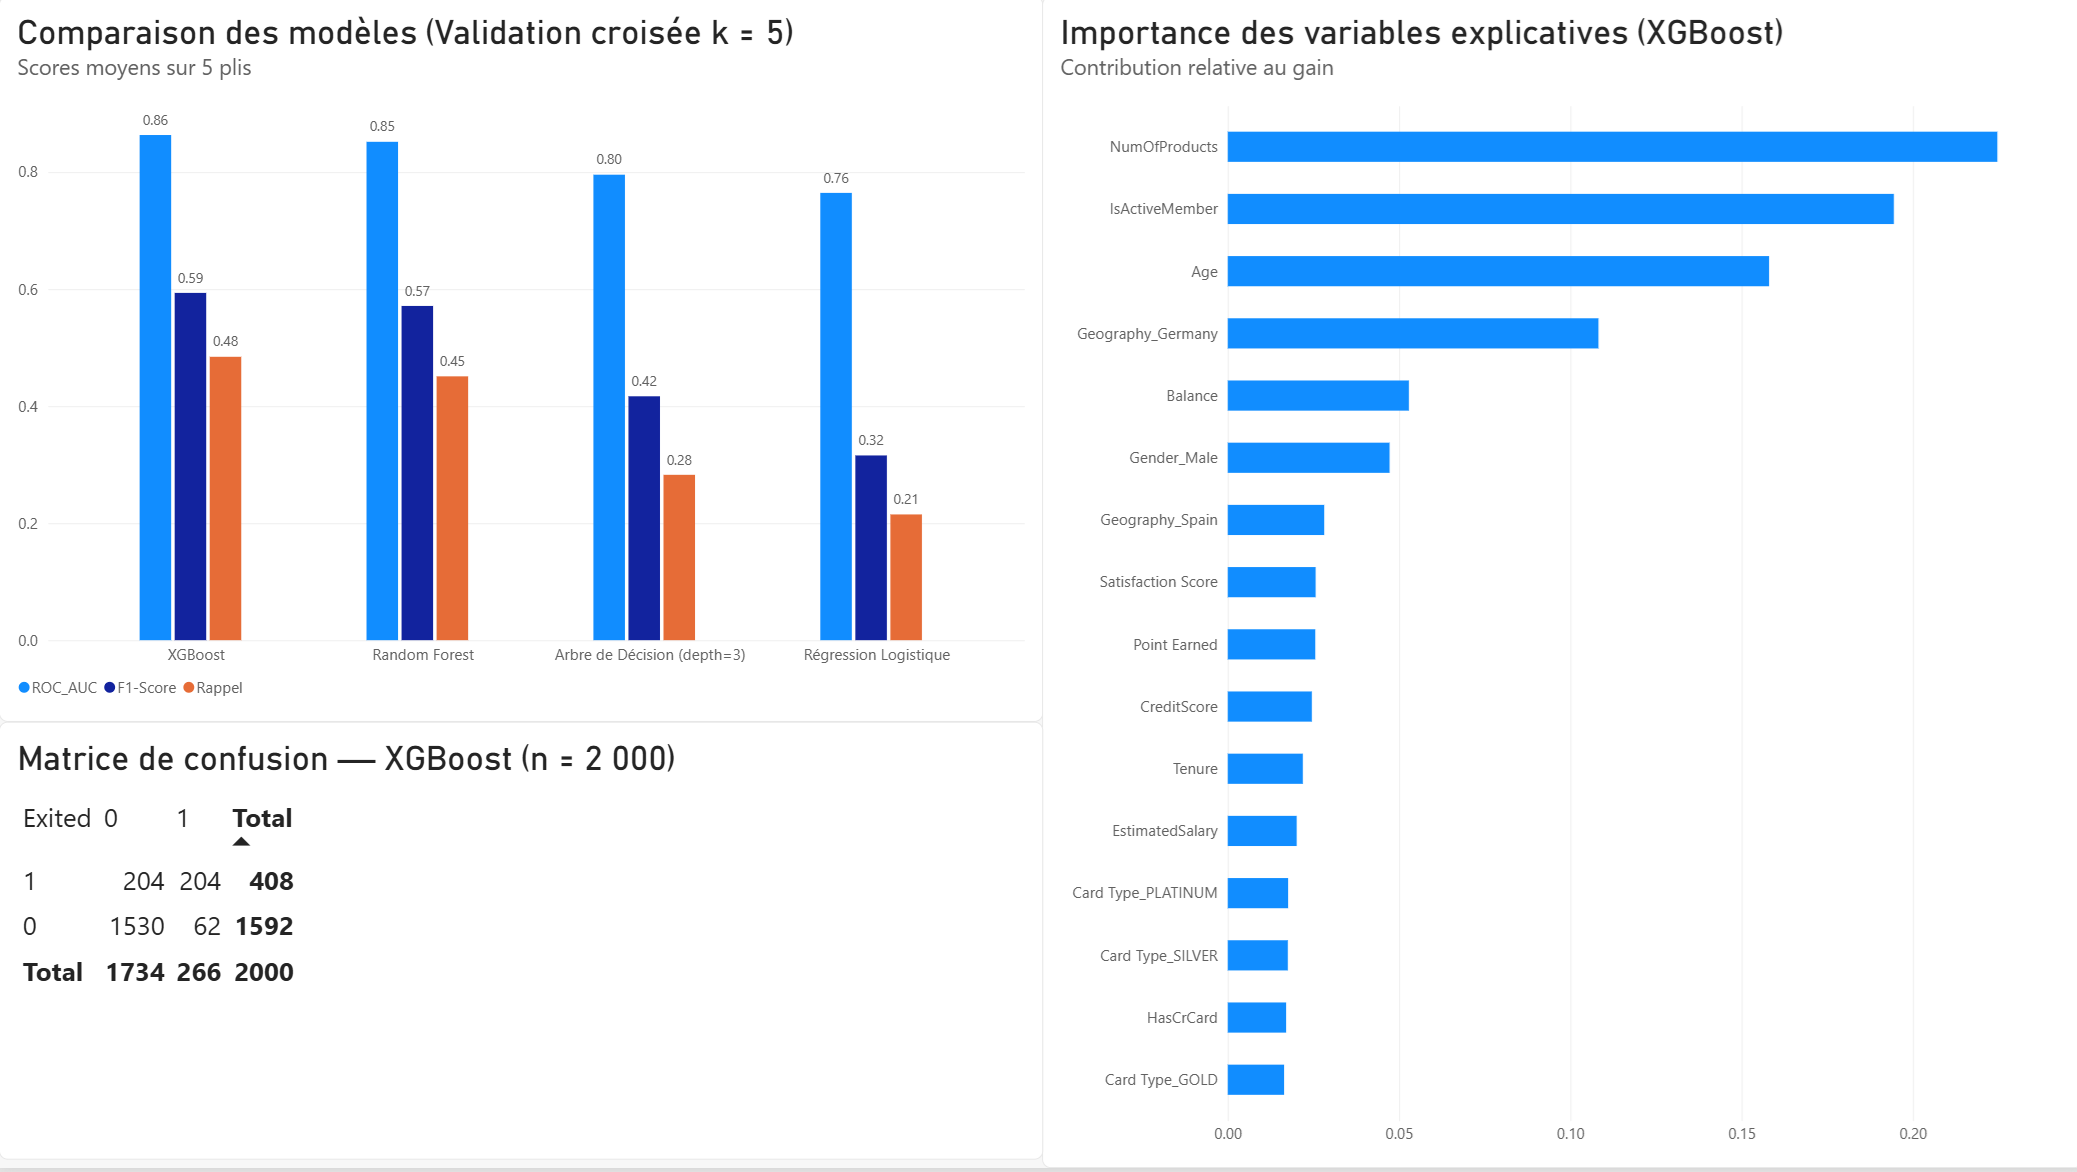

The page's visual inventory and layout, read from the dashboard file:
{"tool":"powerbi","page":{"name":"Performance Modèle ML","canvas":[1920,1080],"ordinal":1},"visuals":[{"type":"clusteredColumnChart","title":"Comparaison des modèles (Validation croisée k = 5)","fields":{"Category":["comparaison_modeles_powerbi.Modele"],"Y":["Sum(comparaison_modeles_powerbi.ROC_AUC_Moyenne)","Sum(comparaison_modeles_powerbi.F1_Moyenne)","Sum(comparaison_modeles_powerbi.Rappel_Moyenne)"]},"box":[0,0,961.7,668.3],"z":0},{"type":"clusteredBarChart","title":"Importance des variables explicatives (XGBoost)","fields":{"Category":["importance_xgboost.Feature"],"Y":["Sum(importance_xgboost.Importance)"]},"box":[960.7,0,958.3,1079.9],"z":1000},{"type":"pivotTable","title":"Matrice de confusion — XGBoost (n = 2 000)","fields":{"Columns":["bank_churn_predictions_powerbi.Prediction_Churn_XGBoost"],"Rows":["bank_churn_predictions_powerbi.Exited"],"Values":["CountNonNull(bank_churn_predictions_powerbi.CustomerId)"]},"box":[0,668.3,961.7,403.3],"z":2000}]}

Visuals, with their boxes in screenshot pixels (x1, y1, x2, y2), scaled from the page's 1920x1080 canvas onto the 2077x1172 screenshot:
"Comparaison des modèles (Validation croisée k = 5)" clusteredColumnChart: 0 0 1040 725
"Importance des variables explicatives (XGBoost)" clusteredBarChart: 1039 0 2076 1171
"Matrice de confusion — XGBoost (n = 2 000)" pivotTable: 0 725 1040 1163
